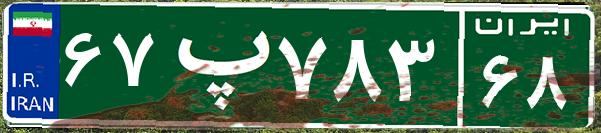3: (385, 28, 445, 110)
6: (57, 26, 110, 107), (475, 38, 525, 113)
7: (273, 28, 330, 110), (110, 28, 158, 105)
8: (330, 28, 385, 110), (525, 38, 570, 115)
پ: (158, 15, 273, 115)
